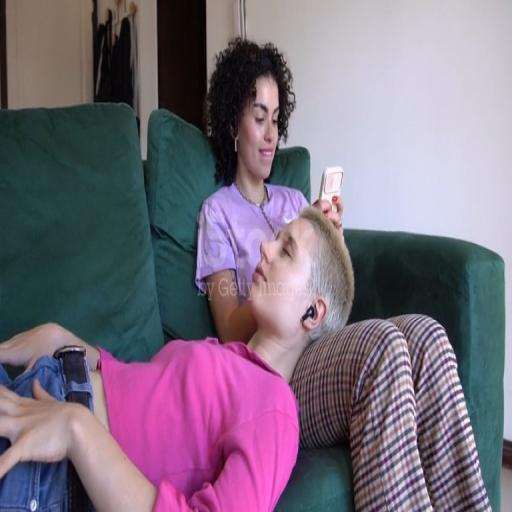earphone: (300, 302, 318, 329)
